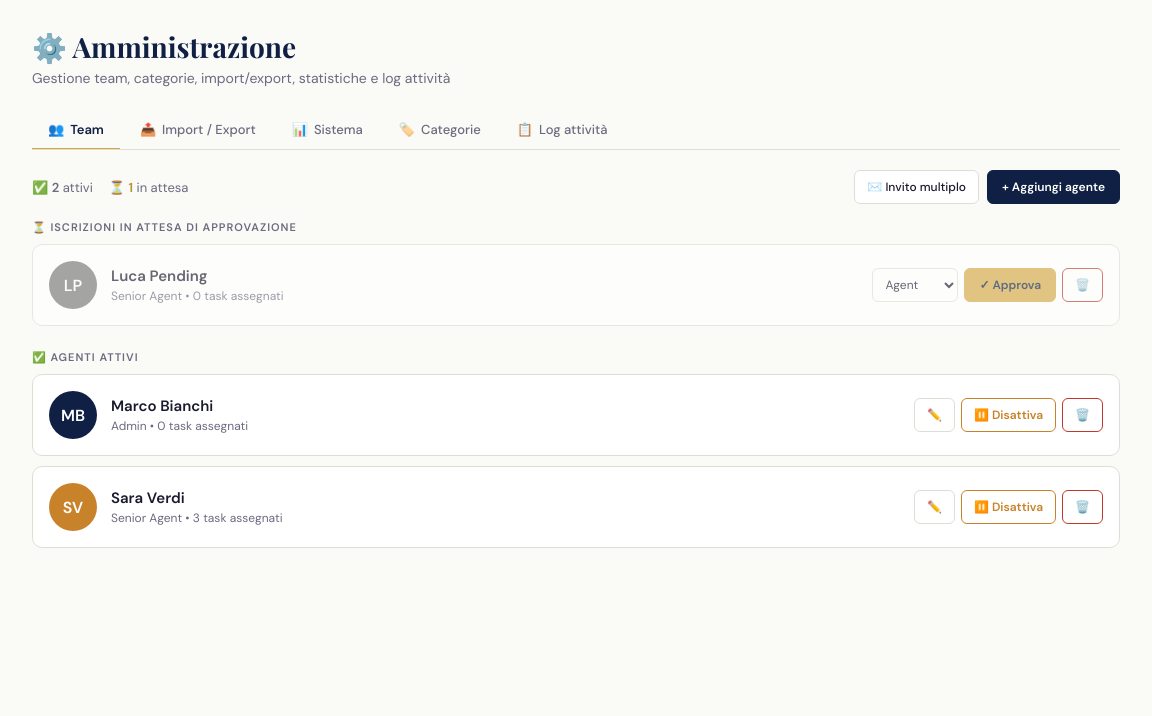
Test: AdminView — nessuna tab riceve `state` › Log attività rende le voci passate come prop
This screenshot has width=1152, height=716.
Click the button "📋 Log attività". click: (562, 130)
box: [501,111,624,150]
(page scrolled)
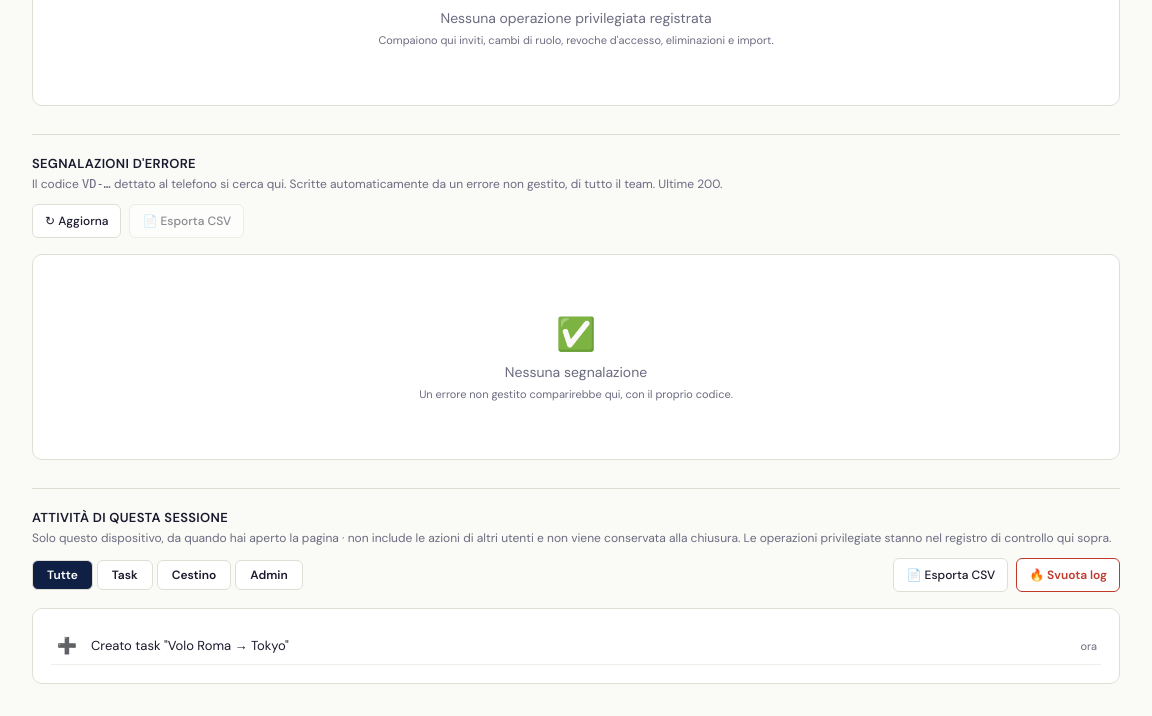
Result: the text "Creato task \"Volo Roma → Tokyo\"" is shown at [91,637,289,654]
